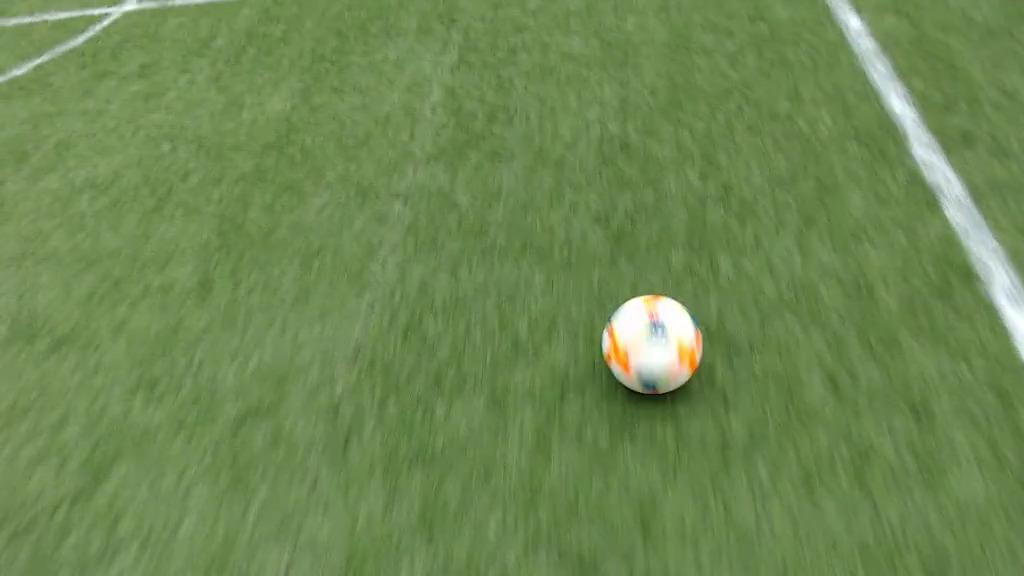ball: (604, 293, 704, 396)
